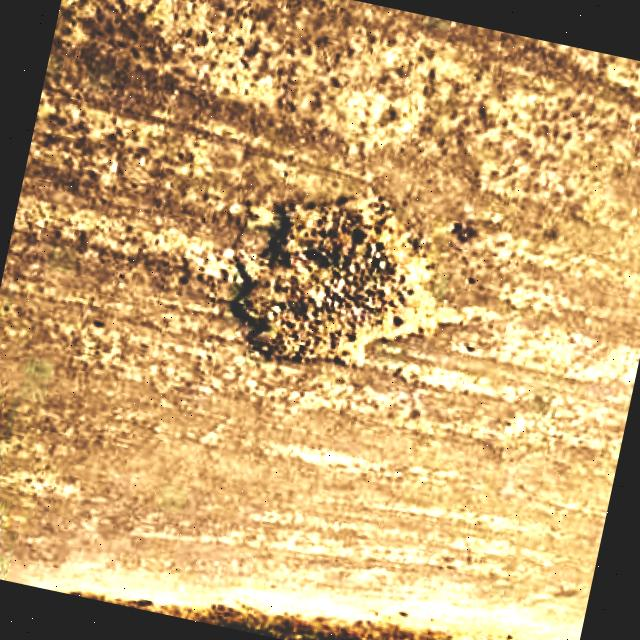pothole: (221, 169, 456, 396)
